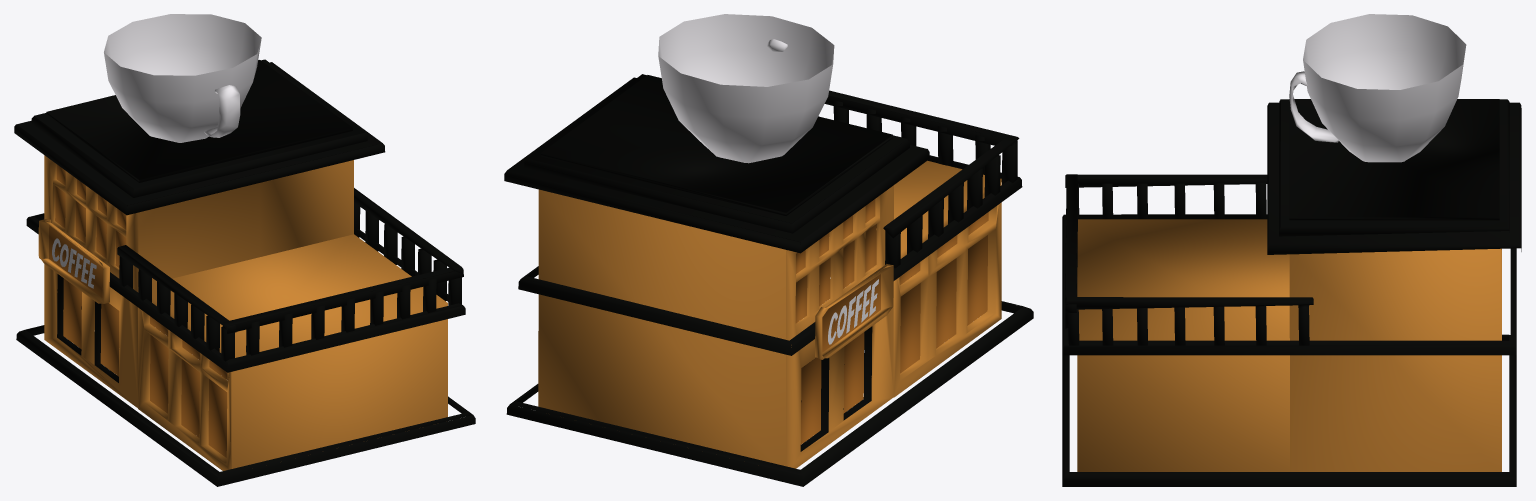
File: Coffee.glb
3 renders of one model, left to right at view 1: azimuth 30°, elevation 25°; view 2: azimuth 150°, elevation 25°; view 3: azimuth 270°, elevation 25°, orthographic. The views are drawn at different scales.
Parts seen in each view (by area): view 1: COFEE; view 2: COFEE; view 3: COFEE.
Part boxes in pixels (x1,y1,x2,y2): COFEE: (14, 14, 475, 486); COFEE: (504, 14, 1033, 486); COFEE: (1062, 14, 1521, 486).
Size of the model in its own units: 110 by 127 by 150.
1 material, 1 textured.
